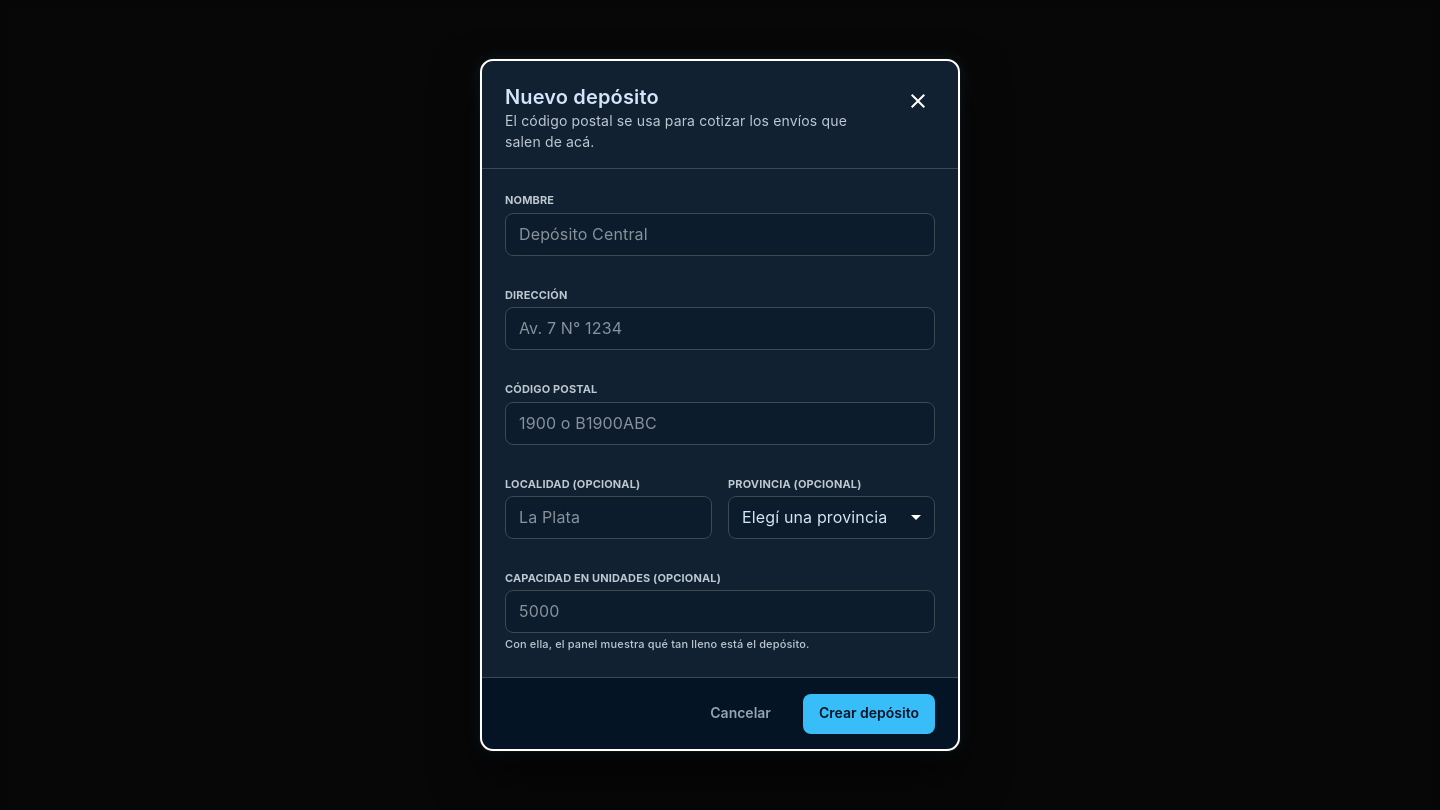
Test: WarehouseFormModal › asks for every field before sending
Click the button "Crear depósito" at {"x": 869, "y": 714}, box [803, 694, 935, 734]
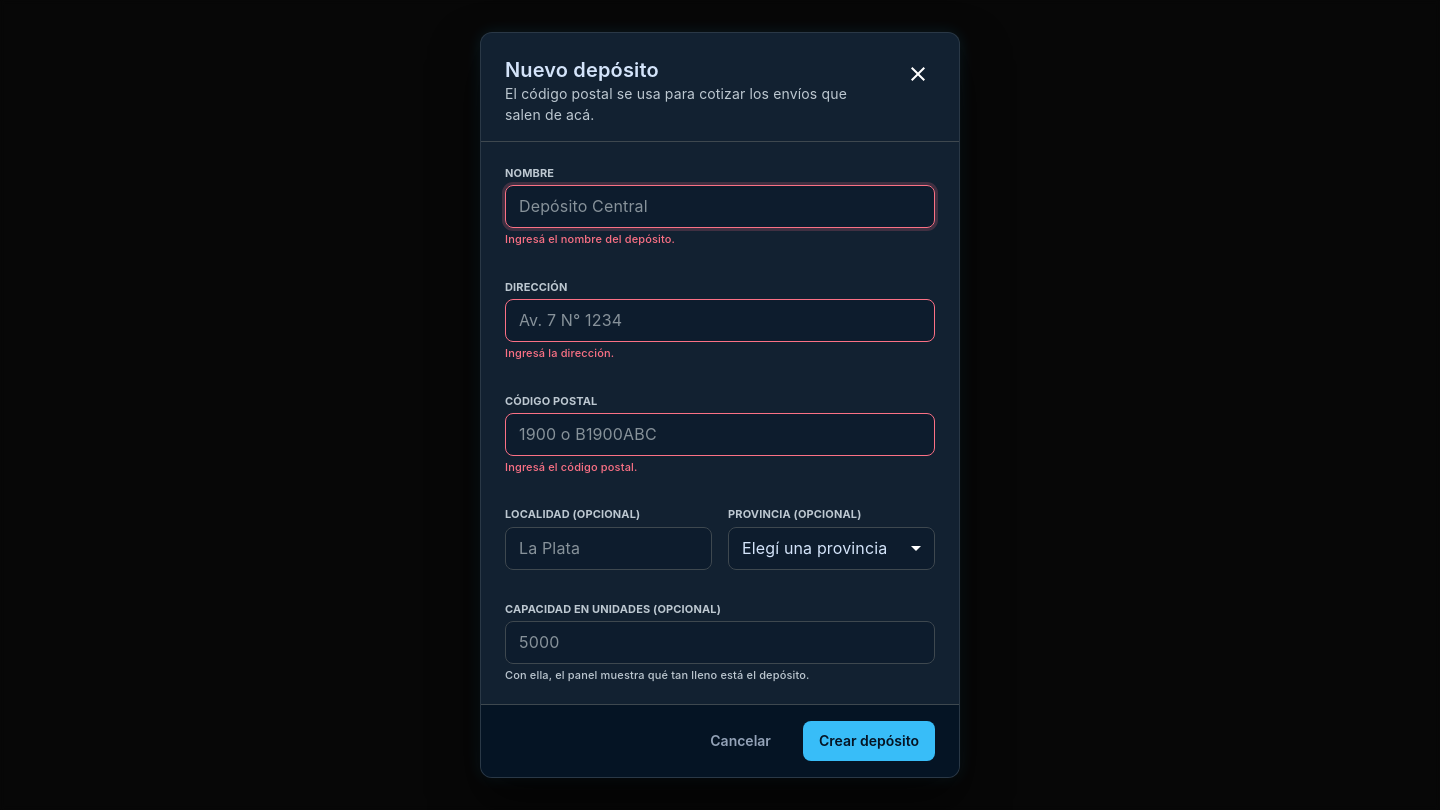
Result: the text "Ingresá el nombre del depósito." is shown at [505, 232, 675, 246]
Result: the text "Ingresá la dirección." is shown at [505, 346, 614, 360]
Result: the text "Ingresá el código postal." is shown at [505, 460, 637, 474]
